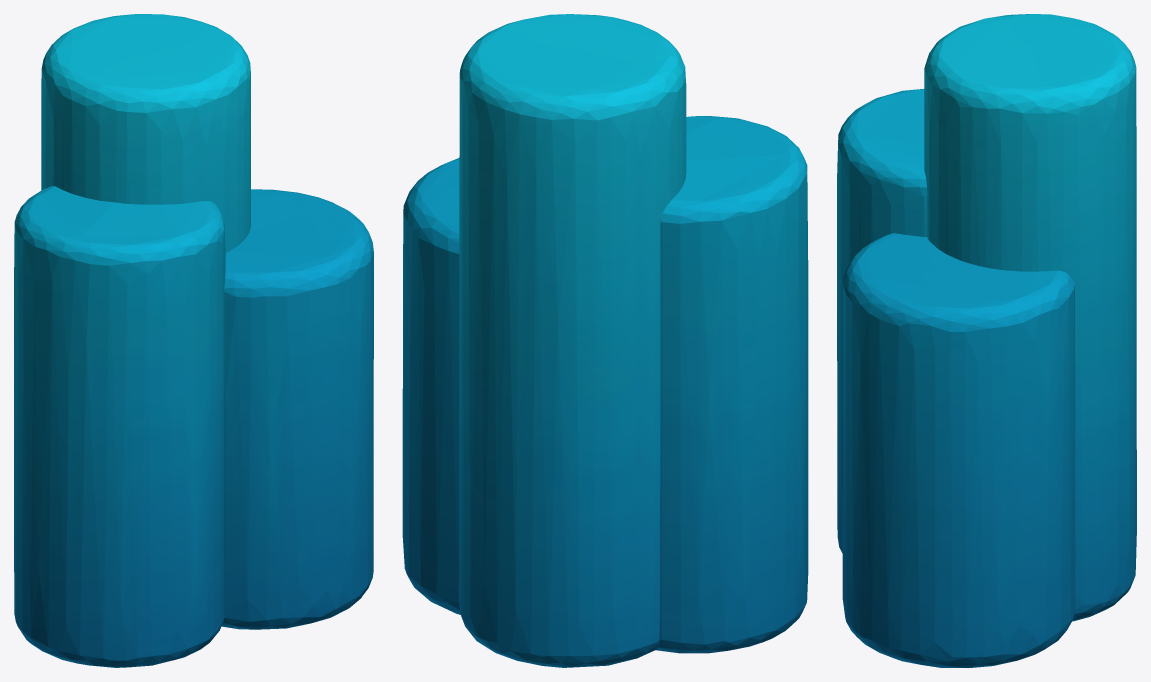
Rendered from GasResourse2.glb.
The picture shows the model from 3 angles, left to right: view 1: azimuth 30°, elevation 25°; view 2: azimuth 150°, elevation 25°; view 3: azimuth 270°, elevation 25°; orthographic projection. The views are drawn at different scales.
Parts seen in each view (by area): view 1: GasResourse2; view 2: GasResourse2; view 3: GasResourse2.
Boxes of the visible parts, box(x1,y1,x2,y2) form: GasResourse2: box(14, 14, 373, 667); GasResourse2: box(402, 14, 808, 667); GasResourse2: box(837, 14, 1136, 667).
Size of the model in its own units: 0.7867 by 1.18 by 0.5984.
1 material, 1 textured.
